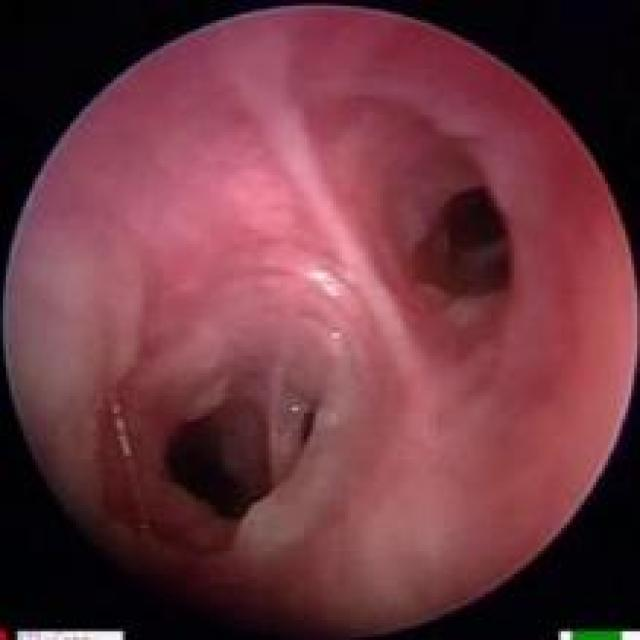color misalignment: (0, 630, 121, 640), (558, 630, 638, 640)
contrast: (91, 509, 331, 640), (415, 167, 513, 303), (164, 413, 256, 524)
specularity: (307, 268, 346, 302), (287, 401, 300, 419), (326, 328, 341, 343)
